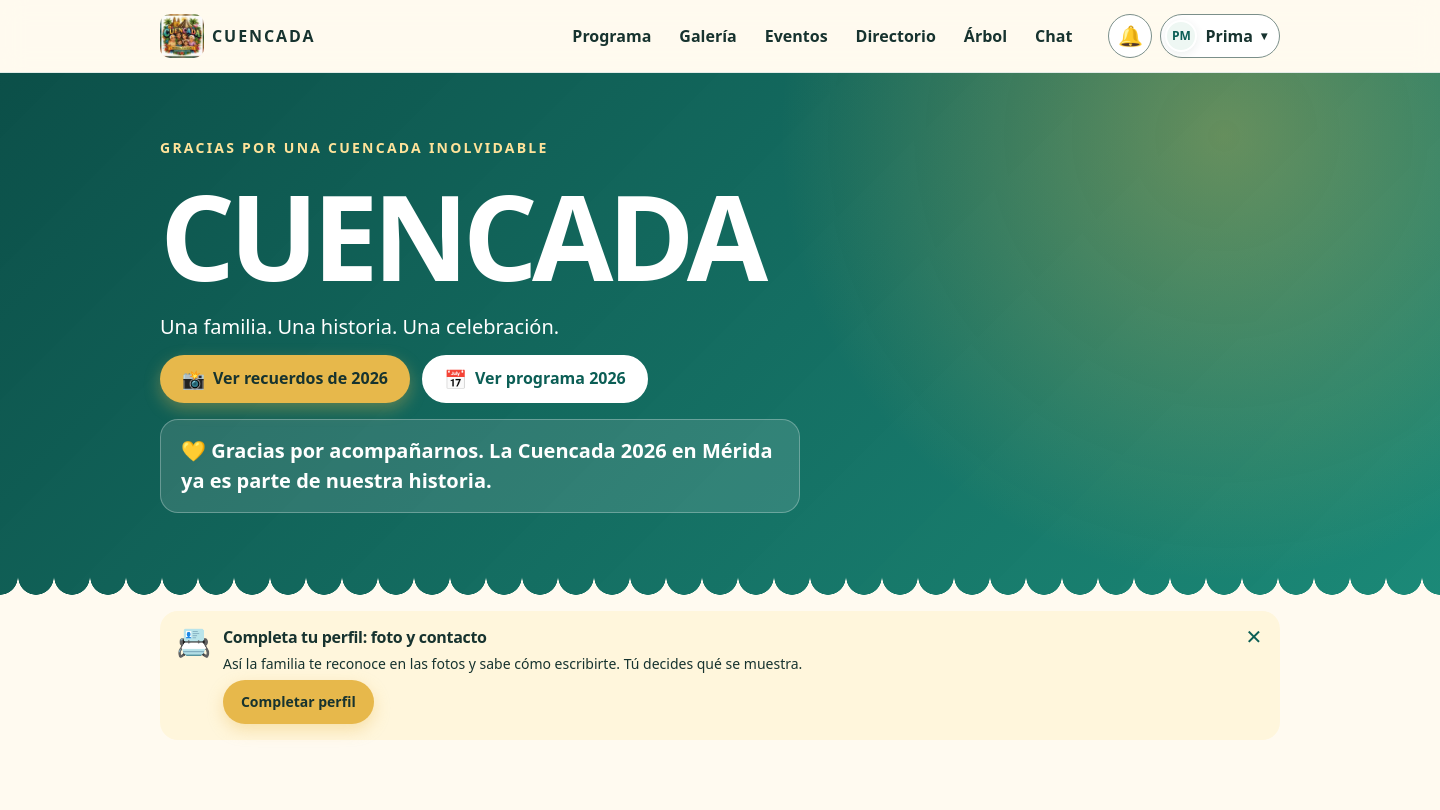
Test: AppLayout › gives an admin the member links, with Panel only in the account menu (WP-4.7)
The width and height of the screenshot is (1440, 810).
What coordinates should you click on to do the following:
click the button with aria-label "Mi cuenta"
I would click on:
 (1220, 36)
Its box is [1160, 14, 1280, 58].
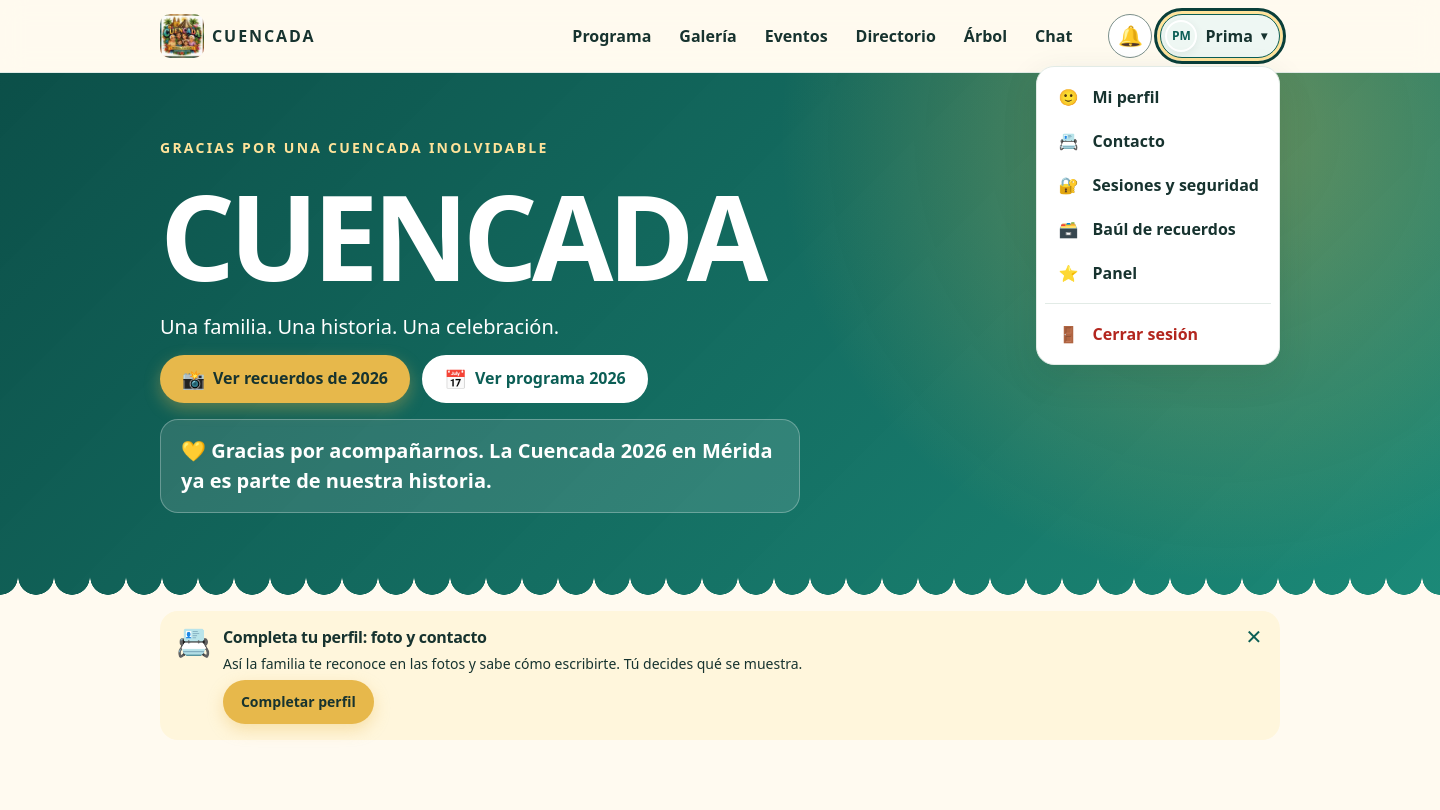
Now the number of links "⭐ Panel" is 1, box [1058, 262, 1137, 284]
